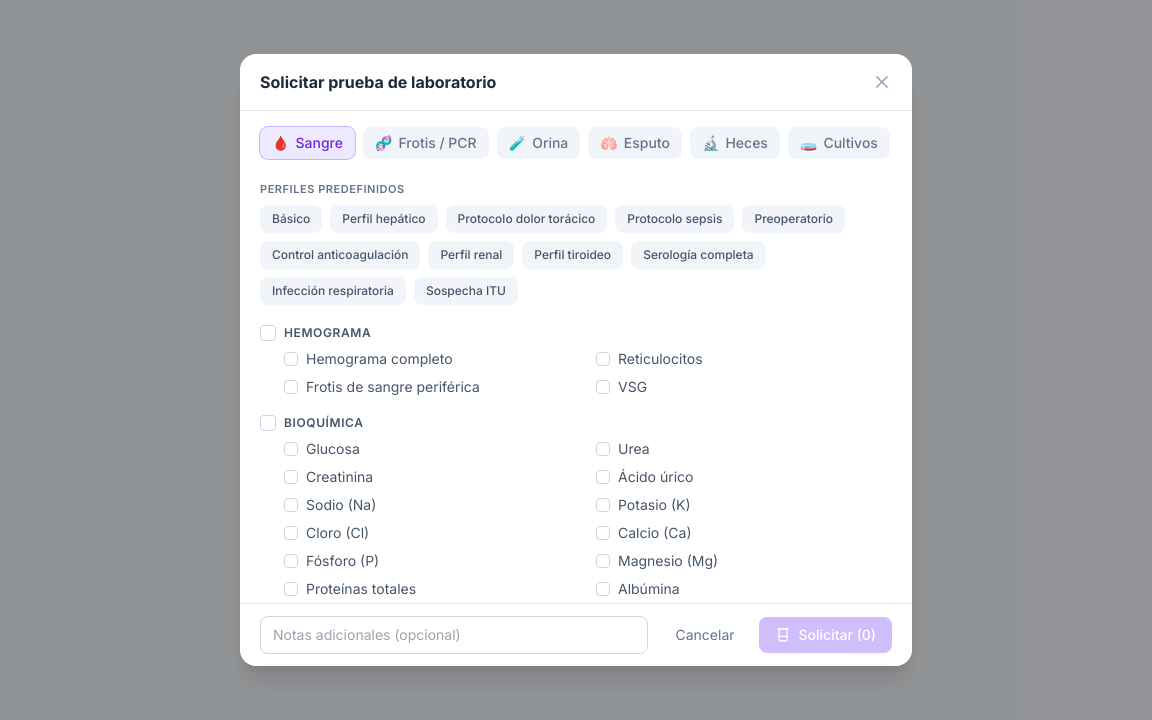
NewLabTestModal › preset multi-muestra selecciona en varias pestañas
// "Sospecha ITU" spans sangre + orina + cultivo
Click the button "Sospecha ITU".
click(466, 291)  # box [414,277,518,305]
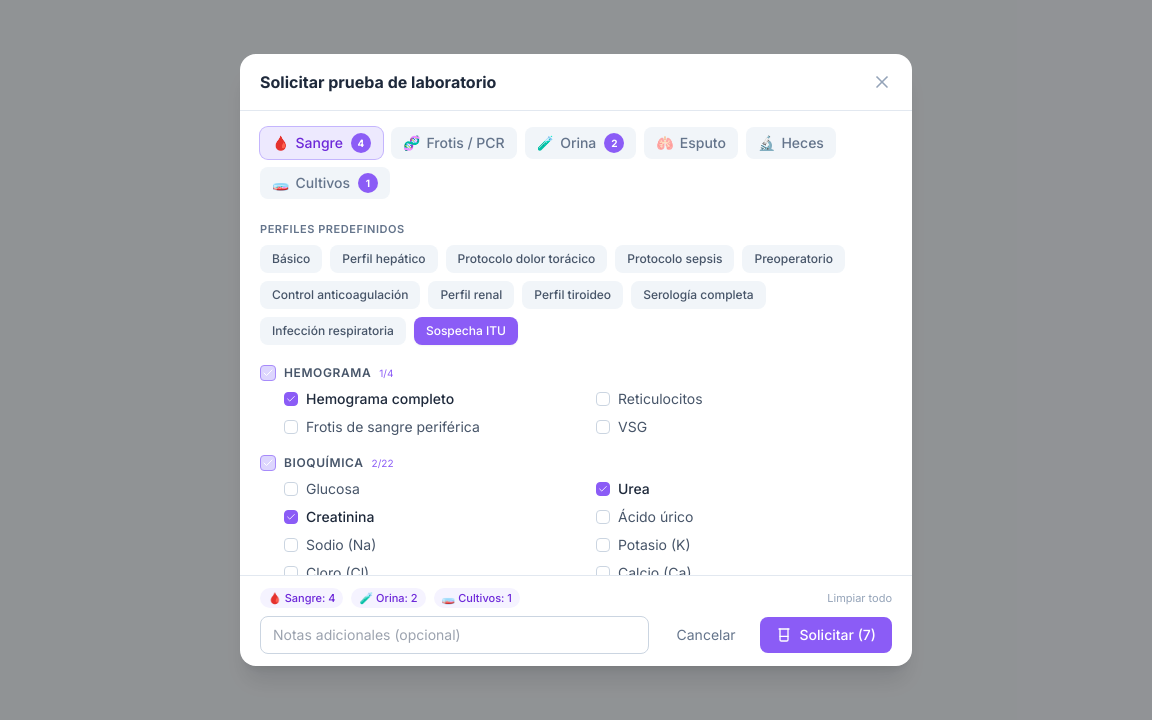
Expected: the button "Solicitar (7)" is shown, [760,617,892,653]
